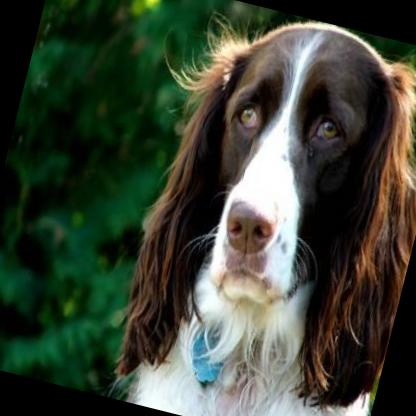English_springer: (106, 0, 416, 416)
